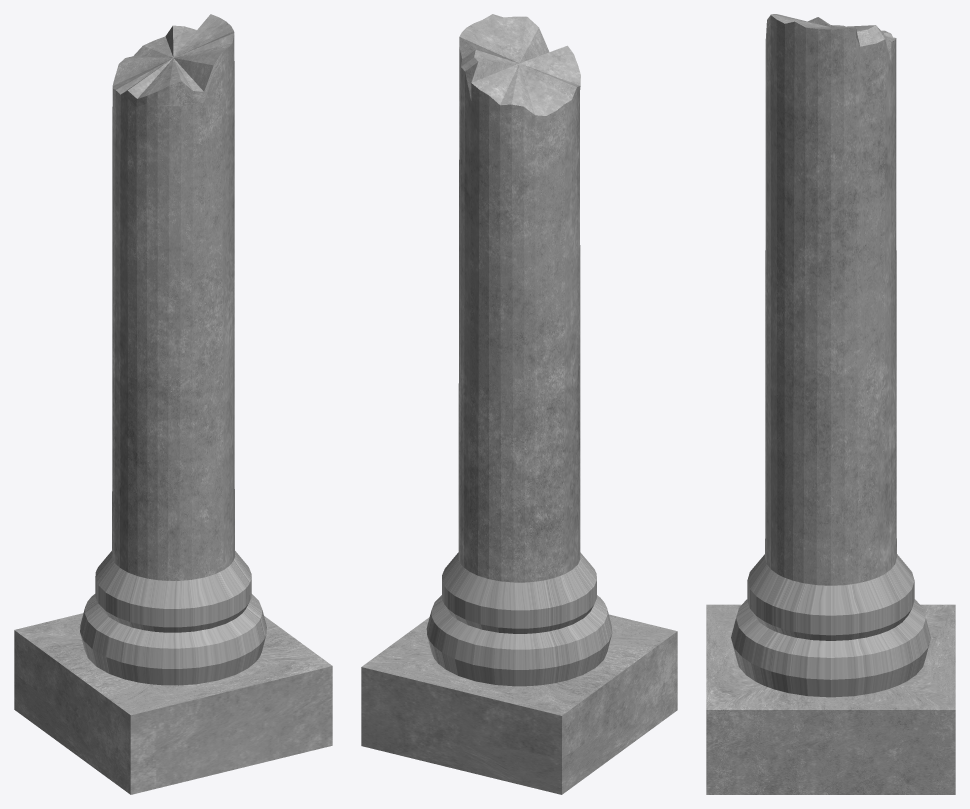
The model's file is pillar_mndr1.fbx.
The picture shows the model from 3 angles, left to right: view 1: azimuth 30°, elevation 25°; view 2: azimuth 150°, elevation 25°; view 3: azimuth 270°, elevation 25°; orthographic projection. The views are drawn at different scales.
Parts seen in each view (by area): view 1: Cylinder; view 2: Cylinder; view 3: Cylinder.
Part boxes in pixels (left/top/right/bottom): Cylinder: left=14, top=14, right=332, bottom=794; Cylinder: left=361, top=14, right=677, bottom=794; Cylinder: left=706, top=14, right=955, bottom=794.
Size of the model in its own units: 292 by 963 by 292.
Materials: 1 (1 with a texture image).
